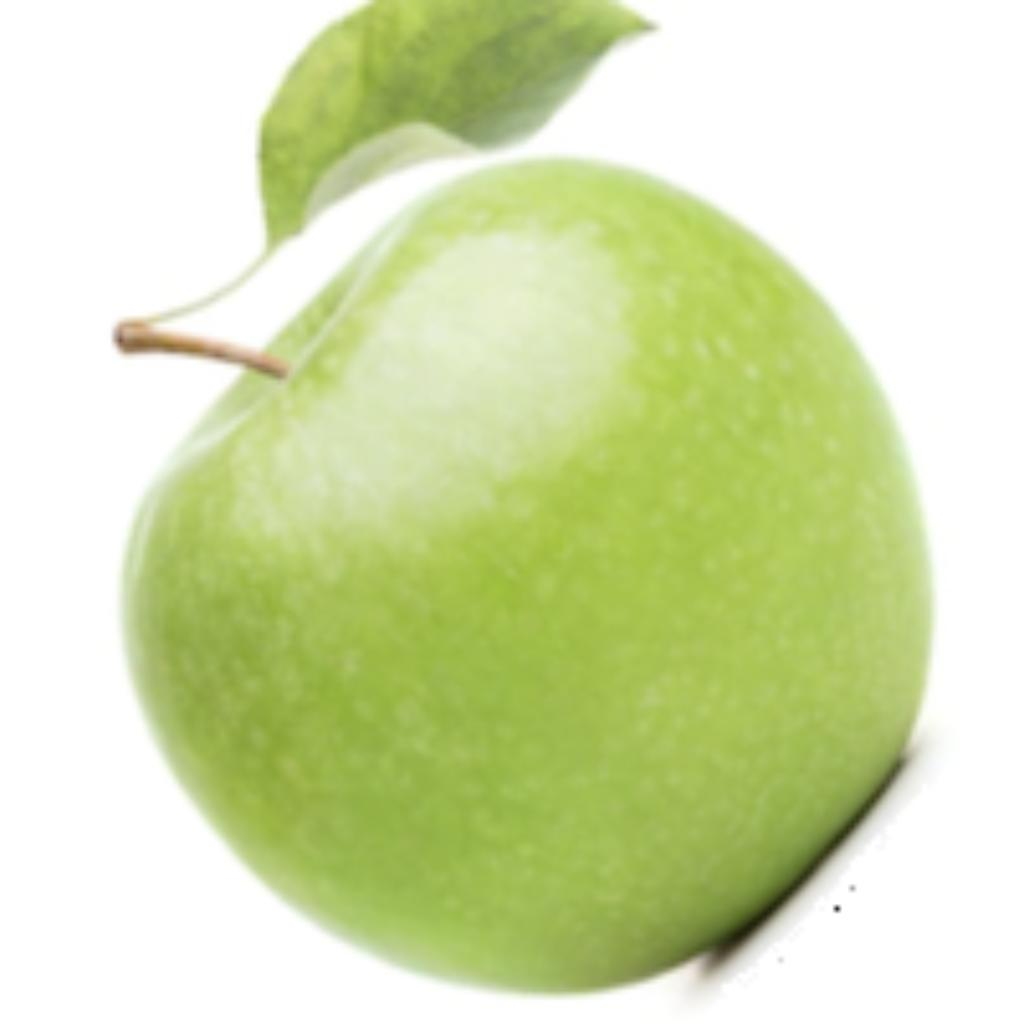apple: (102, 0, 947, 1014)
